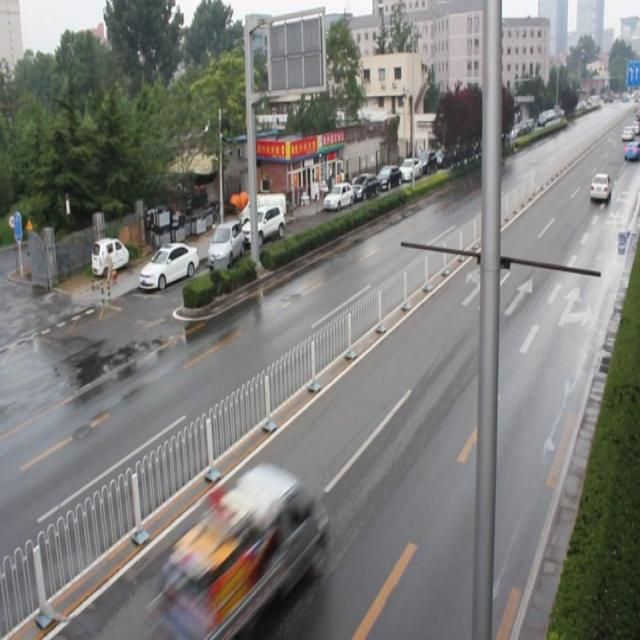bus: (160, 466, 325, 630)
car: (588, 171, 610, 200)
